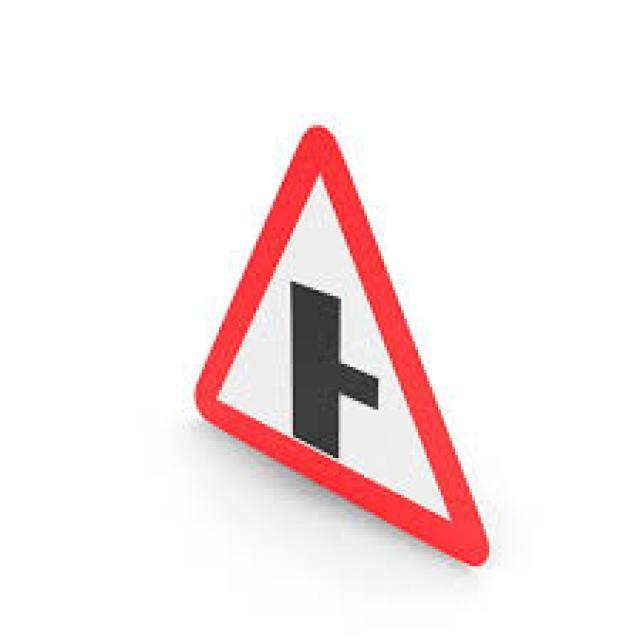side road right: (184, 116, 523, 586)
